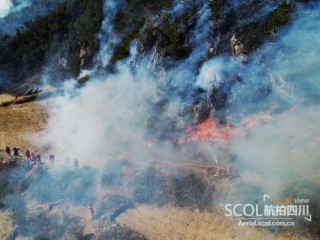fire: (181, 111, 286, 149)
smoke: (41, 80, 167, 190), (91, 3, 124, 78)
